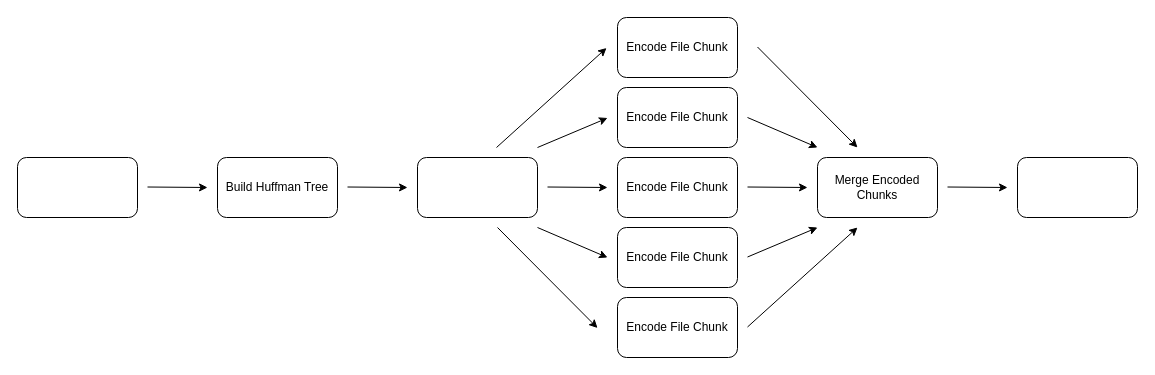
Image size: 1155x375. Some labels were removed from this diagram. The shapes that lost their labels are listed below. From the top down, each one's centre as x and y in pixels, then its label:
At point 77,187: "Build Freq Map".
At point 477,187: "Build Huffman Codes".
At point 1077,187: "Write to File".
